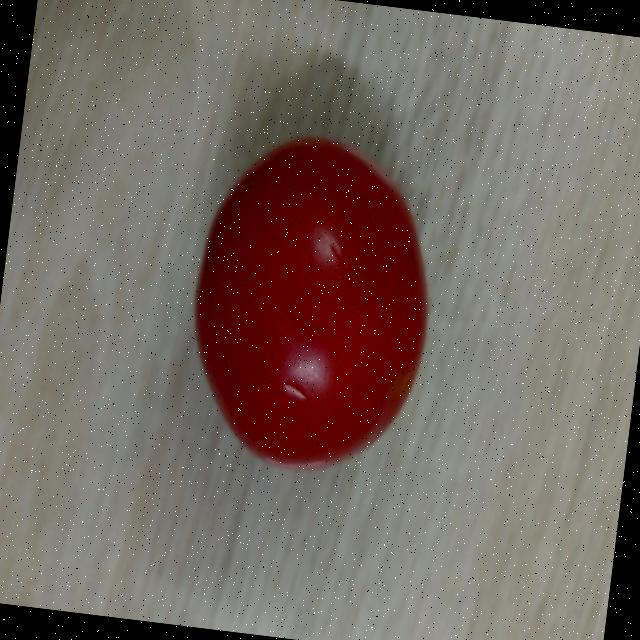Tomato: (172, 123, 452, 490)
